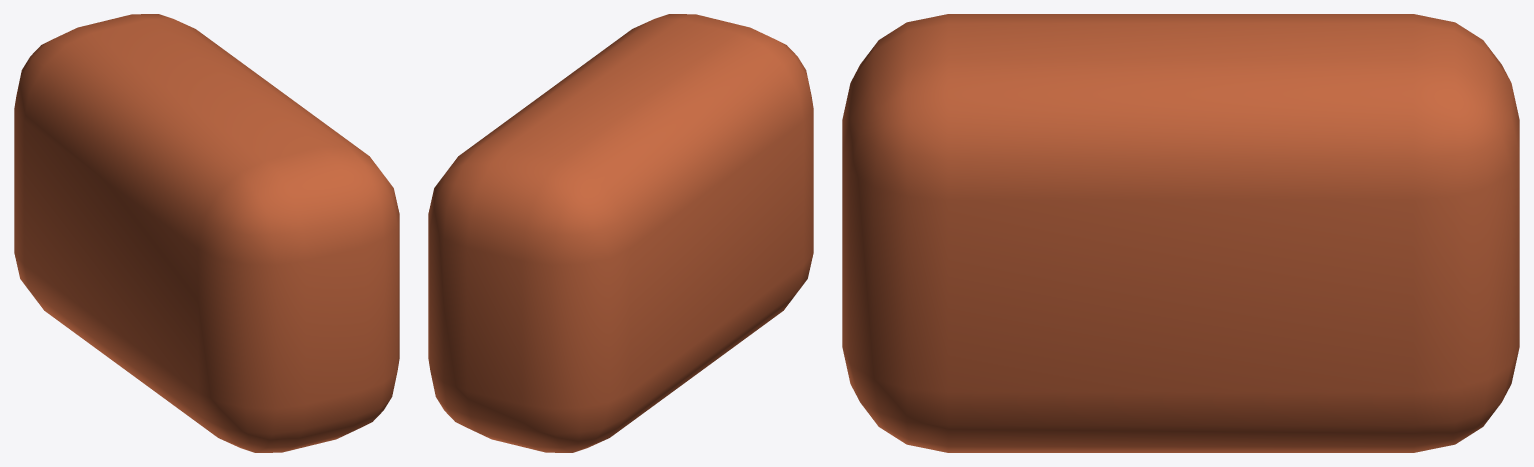
Rendered from corded_drill_trigger.glb.
3 views of the same model, side by side, from view 1: azimuth 30°, elevation 25°; view 2: azimuth 150°, elevation 25°; view 3: azimuth 270°, elevation 25° (orthographic). The views are drawn at different scales.
Visible parts, largest first — view 1: corded_drill_trigger; view 2: corded_drill_trigger; view 3: corded_drill_trigger.
Part boxes in pixels (x1,y1,x2,y2): corded_drill_trigger: [14, 14, 399, 452]; corded_drill_trigger: [428, 14, 813, 452]; corded_drill_trigger: [842, 14, 1519, 452].
Size of the model in its own units: 0.014 by 0.02 by 0.032.
